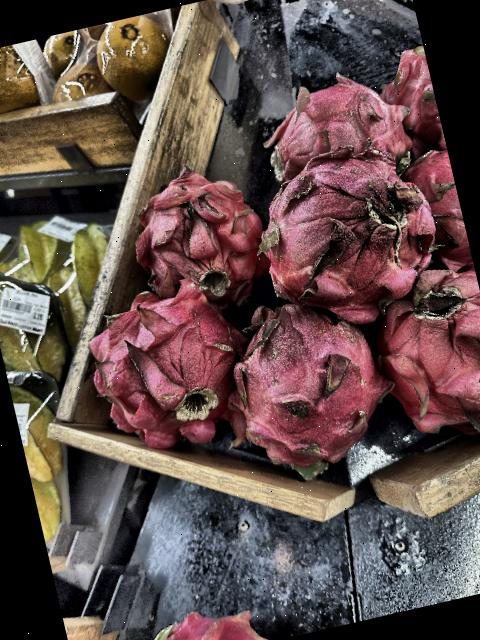buah-naga-matang: (223, 276, 410, 505), (248, 141, 456, 330), (75, 272, 257, 445), (250, 54, 424, 224), (115, 159, 278, 316), (360, 265, 480, 463)
